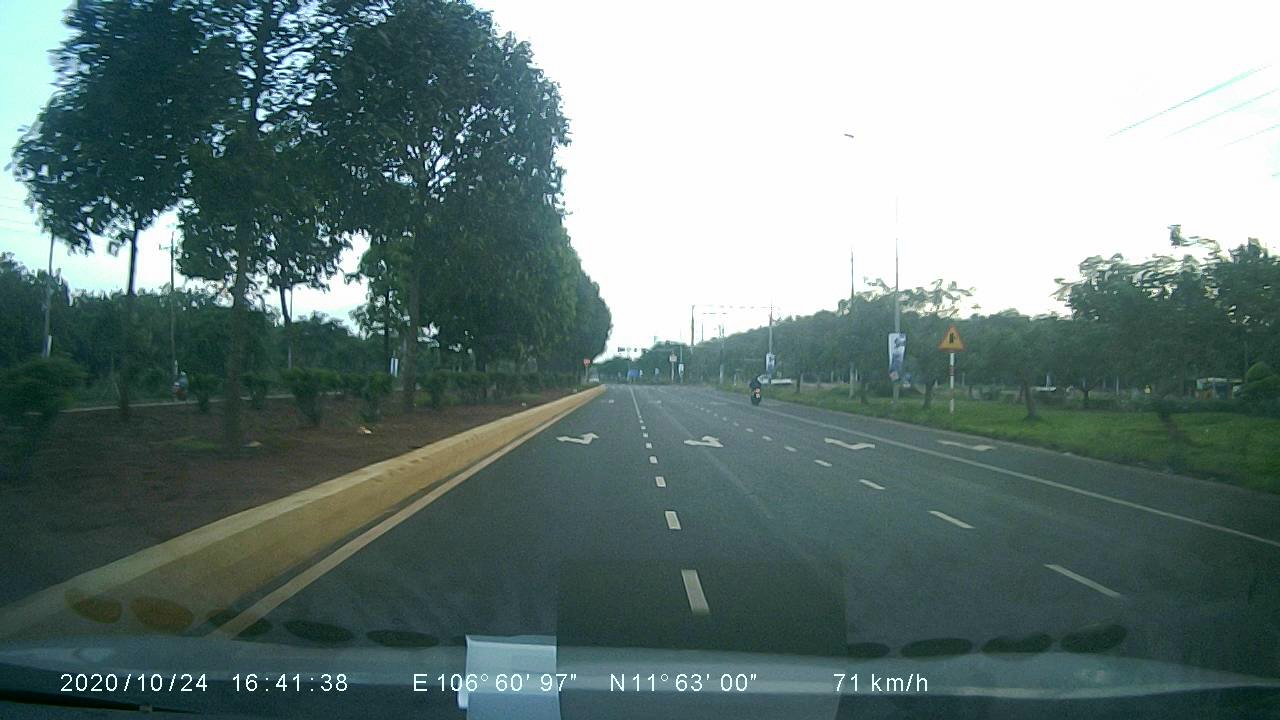Giao nhau voi duong khong uu tien: (935, 321, 968, 353)
